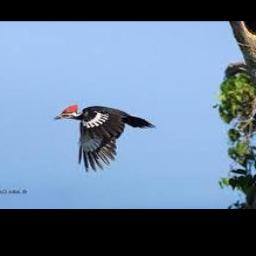Woodpecker: (54, 103, 157, 172)
